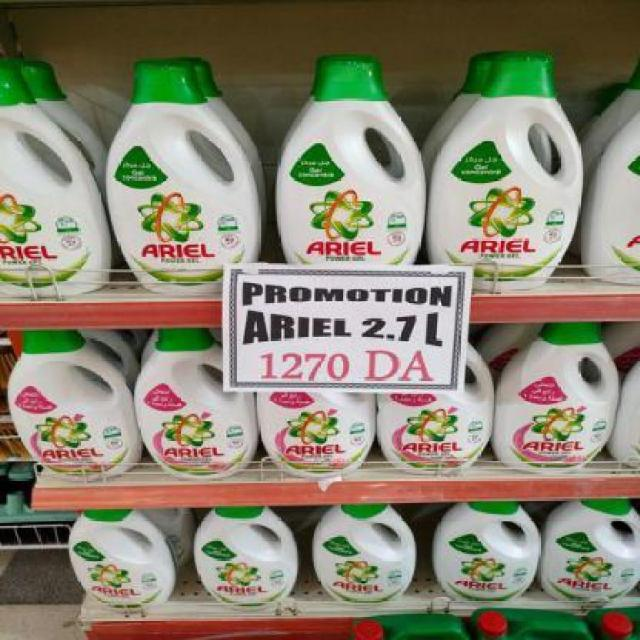Detergent: (272, 42, 430, 272), (435, 42, 583, 282), (100, 67, 255, 296), (0, 66, 109, 294), (492, 294, 614, 468), (128, 314, 254, 478), (2, 333, 132, 481), (380, 361, 502, 472), (305, 496, 423, 602), (71, 498, 180, 610), (188, 505, 304, 609), (537, 488, 638, 602), (429, 494, 537, 600), (255, 385, 376, 477)
